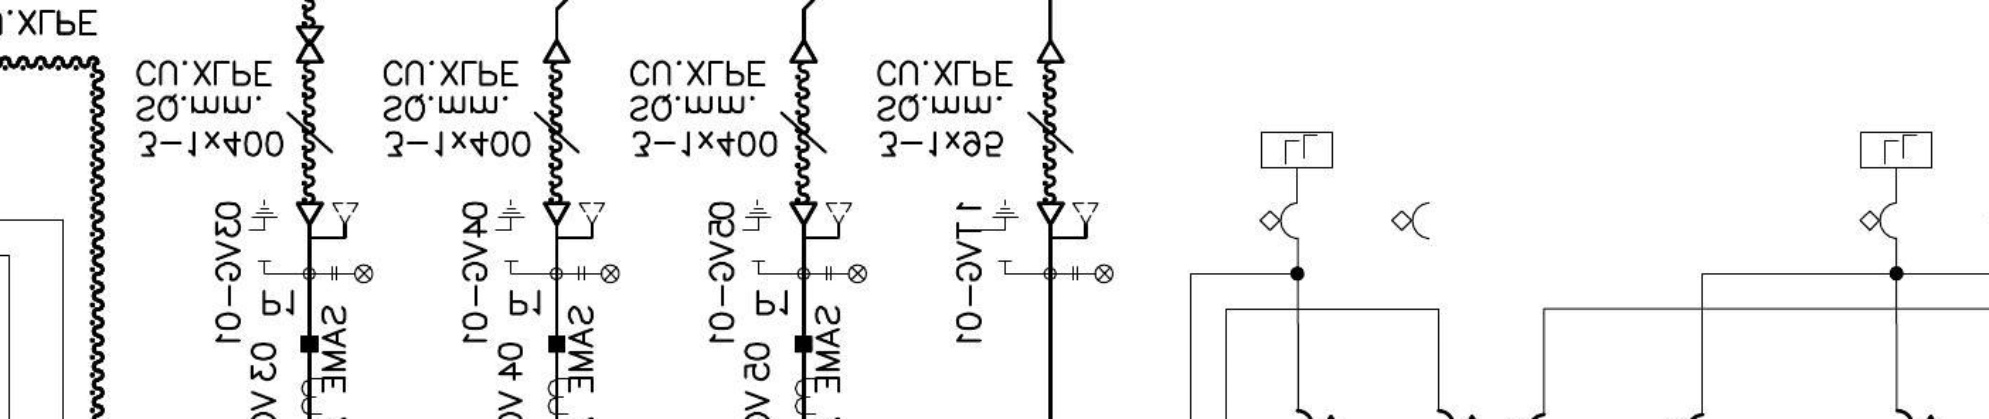22_gs: (979, 199, 1019, 264), (246, 199, 279, 264), (493, 199, 526, 264), (740, 199, 771, 264)
22_ll: (330, 263, 374, 284), (577, 264, 622, 286), (823, 263, 868, 284), (1071, 263, 1115, 284)
LL: (1260, 128, 1337, 170), (1857, 130, 1934, 170)
terminator_single: (1035, 39, 1067, 66), (540, 39, 572, 66), (788, 39, 819, 65)
terminator_splicing_kits: (294, 25, 325, 65)
terminator_w_future: (542, 201, 609, 243), (294, 201, 362, 241), (786, 201, 854, 241), (1034, 201, 1101, 241)
